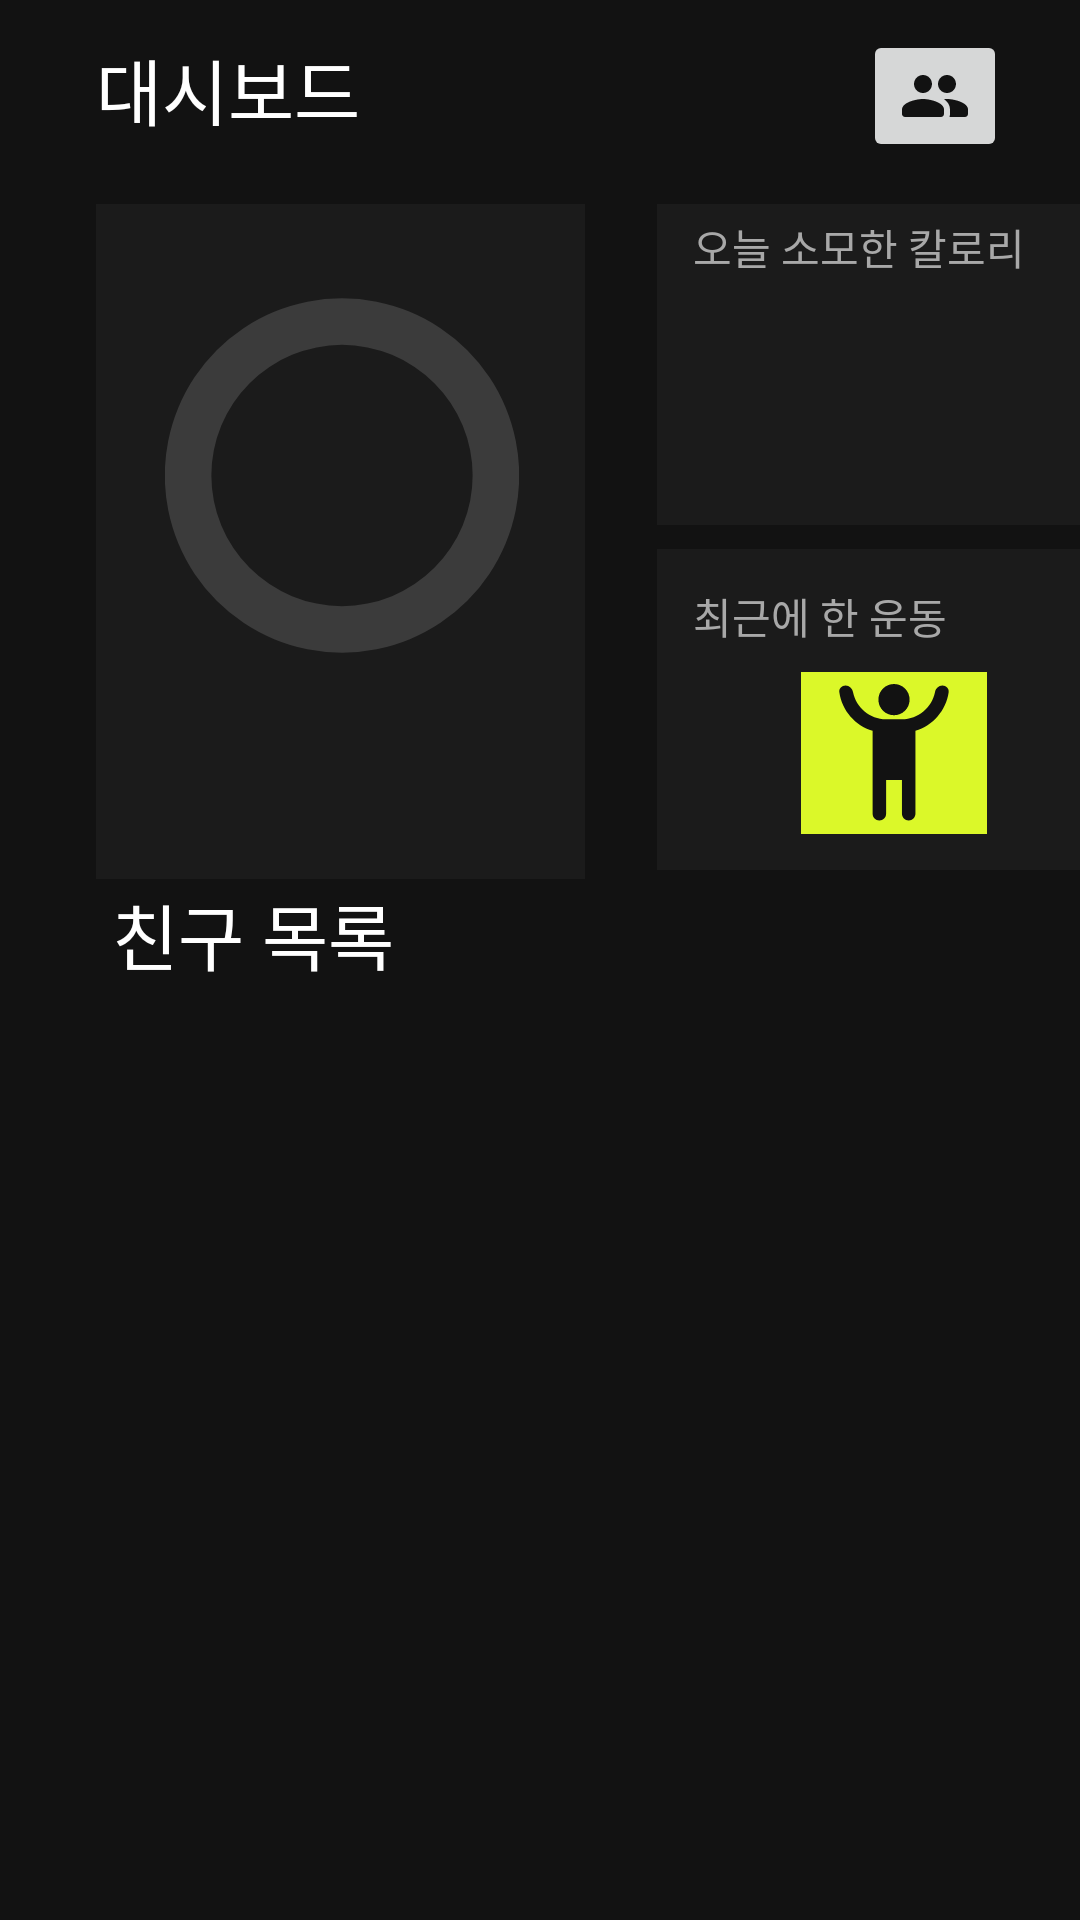

Icons on this 1080 × 1920 Android screen, each with its box as {"x1": x1, "y1": y1, "x2": x2, "y2": y2}:
friends: {"x1": 875, "y1": 48, "x2": 995, "y2": 144}
jumpingjack: {"x1": 801, "y1": 672, "x2": 987, "y2": 834}
